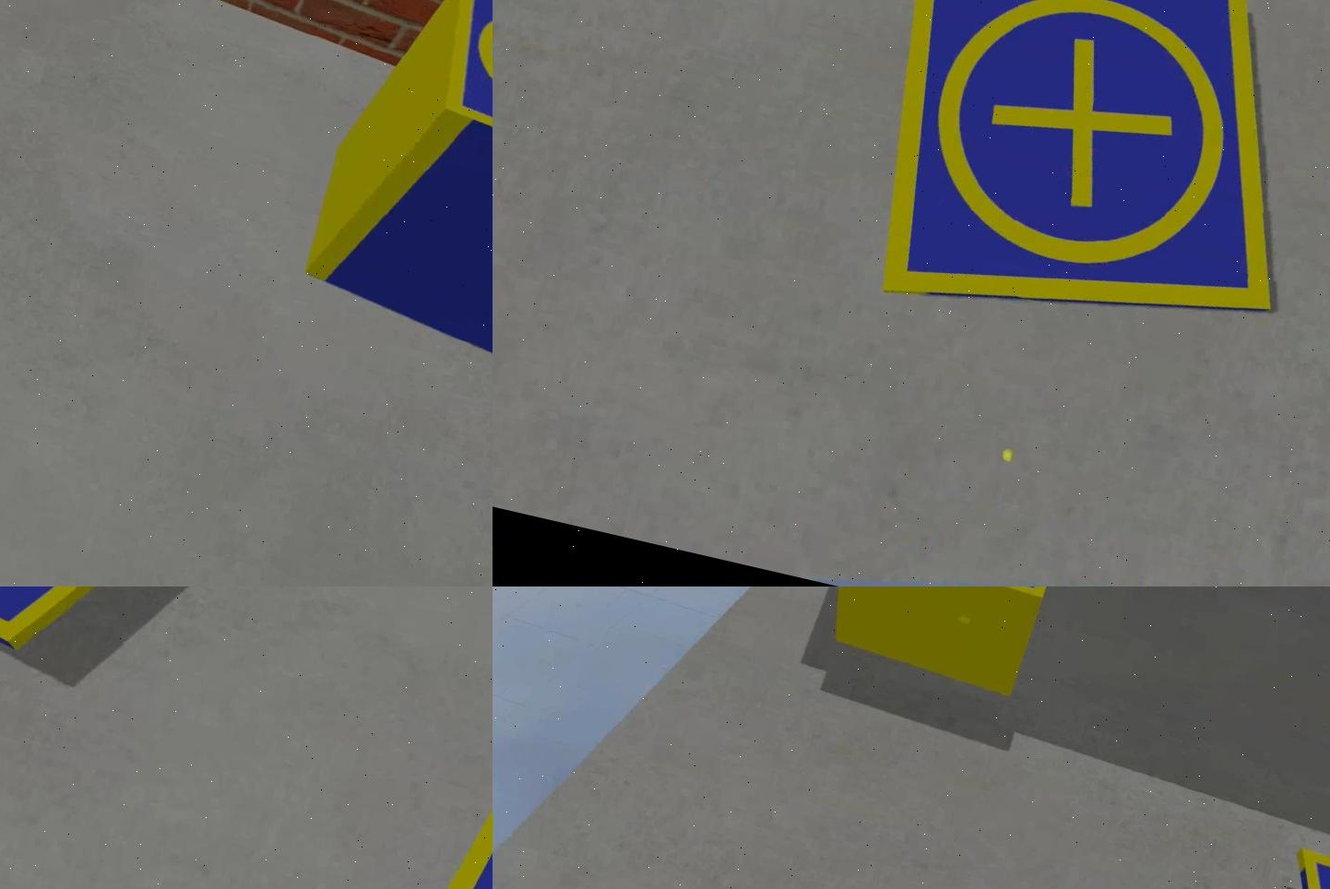small_base: (839, 1, 1328, 382), (0, 587, 258, 688), (431, 1, 491, 172)
